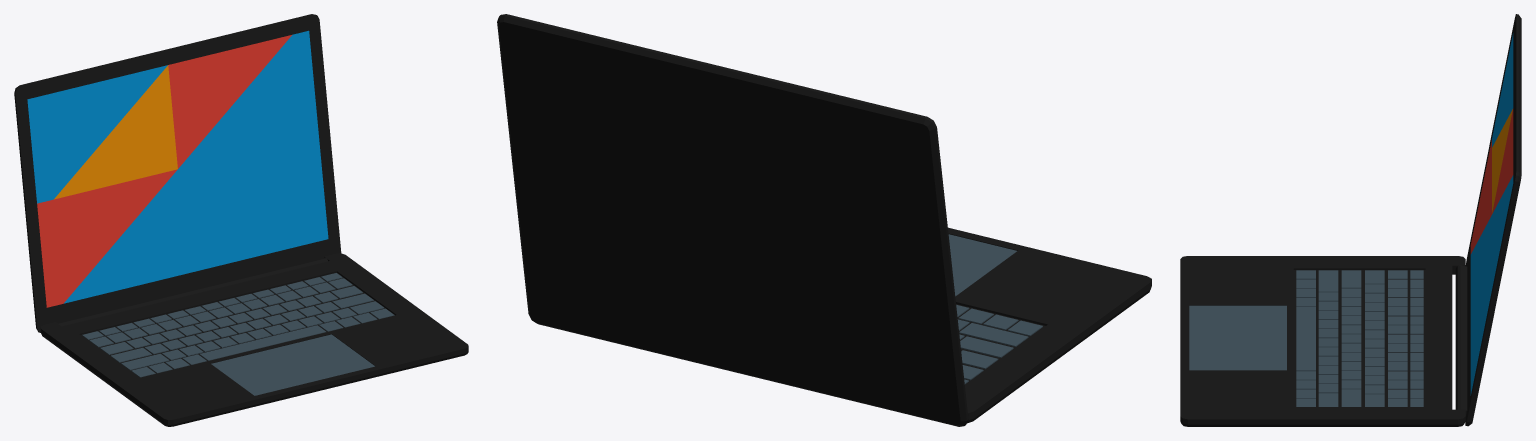
File: Laptop 02.fbx
The picture shows the model from 3 angles, left to right: view 1: azimuth 30°, elevation 25°; view 2: azimuth 150°, elevation 25°; view 3: azimuth 270°, elevation 25°; orthographic projection. The views are drawn at different scales.
Visible parts, largest first — view 1: Mesh; view 2: Mesh; view 3: Mesh.
Part boxes in pixels (bbox=[...]): Mesh: bbox=[14, 14, 468, 426]; Mesh: bbox=[497, 14, 1151, 426]; Mesh: bbox=[1180, 14, 1521, 426].
Bounding box in the file's own units: 13.56 × 9.86 × 11.97.
